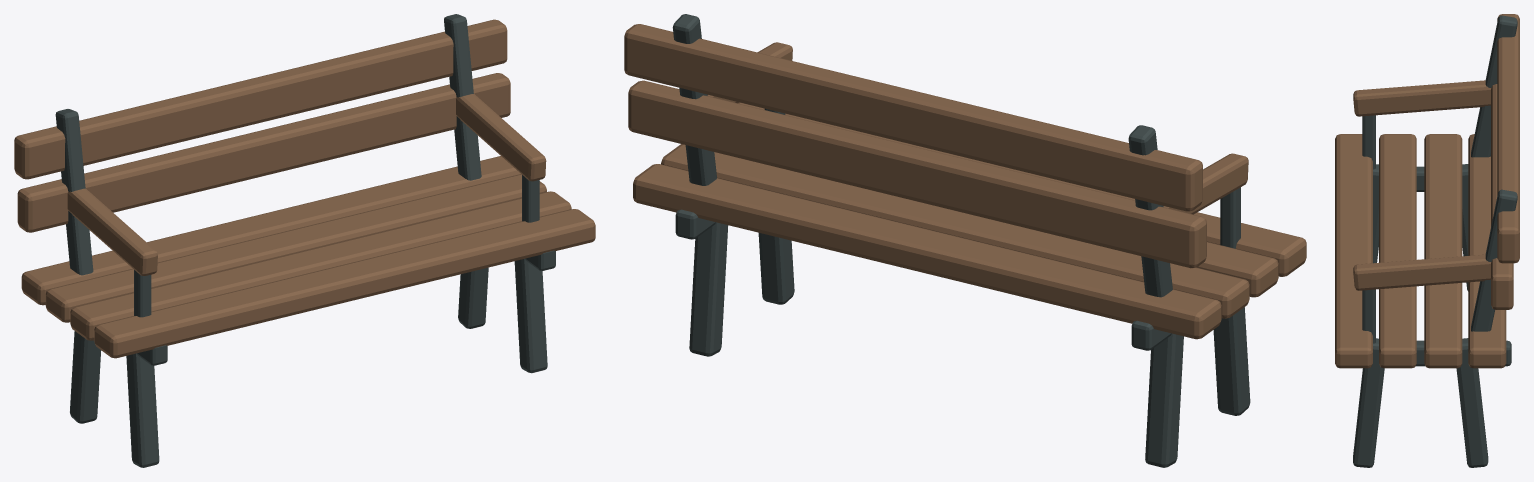
The model's file is SM_Bench.fbx.
The picture shows the model from 3 angles, left to right: view 1: azimuth 30°, elevation 25°; view 2: azimuth 150°, elevation 25°; view 3: azimuth 270°, elevation 25°; orthographic projection. The views are drawn at different scales.
Parts seen in each view (by area): view 1: SM_Bench; view 2: SM_Bench; view 3: SM_Bench.
Part boxes in pixels (x1,y1,x2,y2): SM_Bench: [14, 14, 595, 467]; SM_Bench: [624, 14, 1306, 467]; SM_Bench: [1335, 14, 1519, 467].
Bounding box in the file's own units: 1.7 × 0.6104 × 0.9957.
